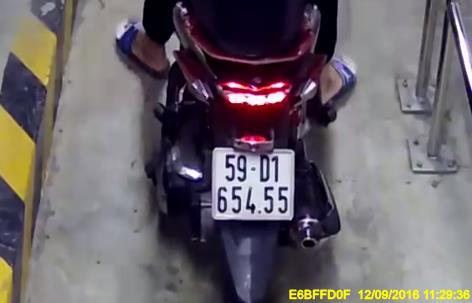LP: (211, 147, 294, 220)
